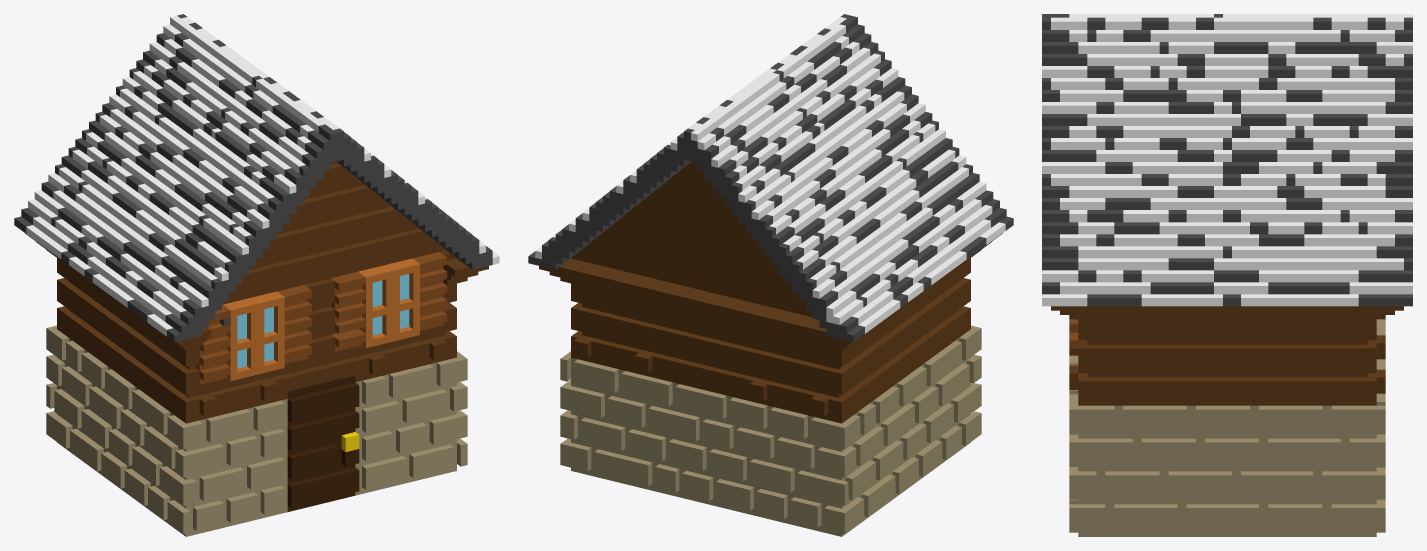
Rendered from Chalet.obj.
The picture shows the model from 3 angles, left to right: view 1: azimuth 30°, elevation 25°; view 2: azimuth 150°, elevation 25°; view 3: azimuth 270°, elevation 25°; orthographic projection. The views are drawn at different scales.
Bounding box in the file's own units: 48 × 54 × 41.
Materials: 1 (1 with a texture image).
